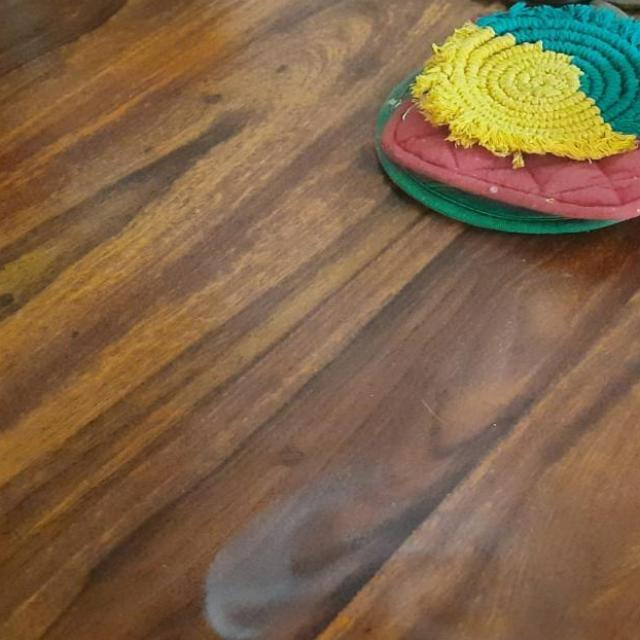fire: (193, 447, 550, 640)
